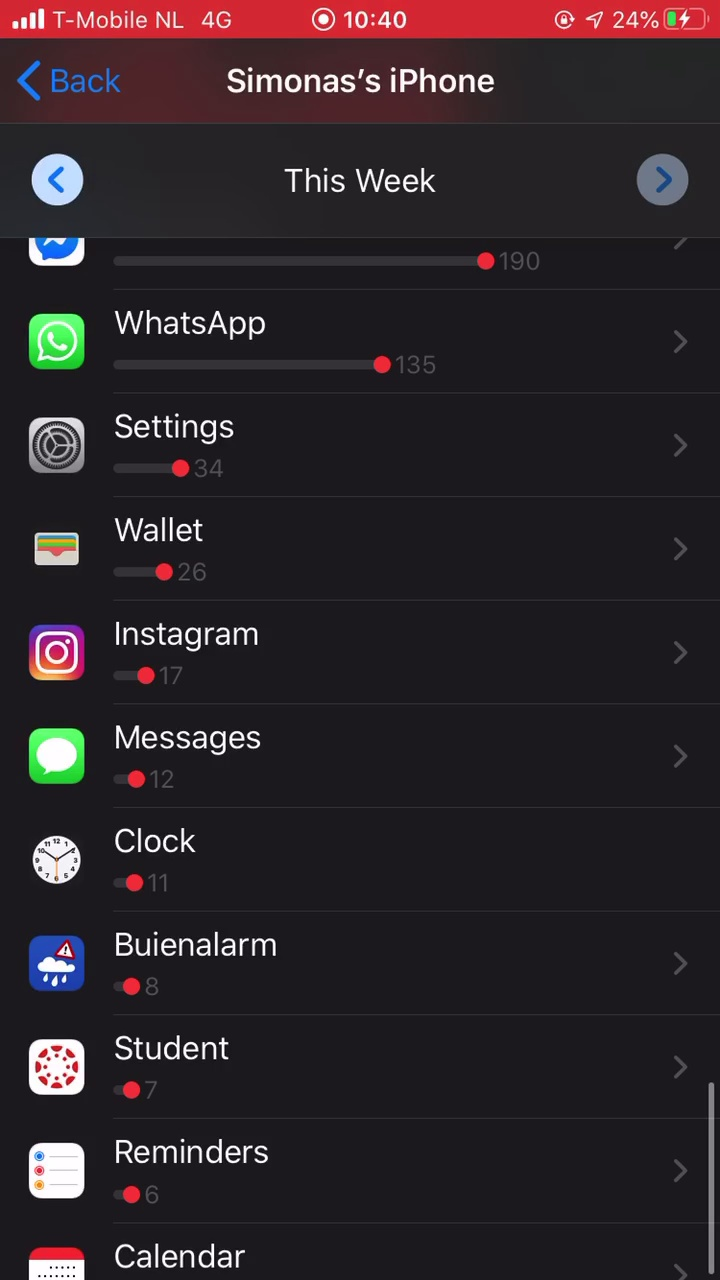not_app: (23, 291, 456, 385), (32, 919, 315, 1007), (21, 1127, 290, 1216), (31, 716, 317, 796), (31, 610, 309, 692), (26, 411, 279, 491), (25, 1030, 268, 1113), (32, 507, 259, 592), (28, 821, 251, 894)
week: (260, 150, 456, 209)
